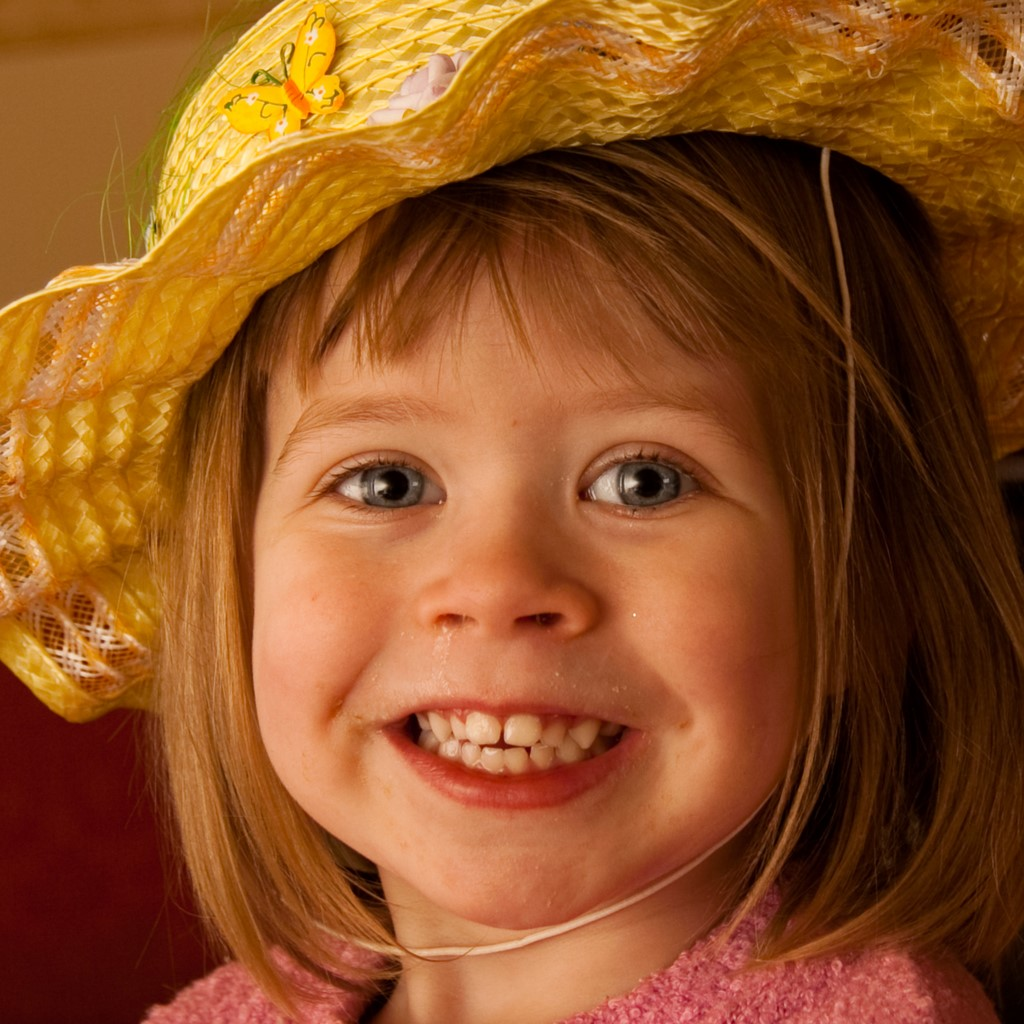sin_mascara: (206, 123, 858, 946)
